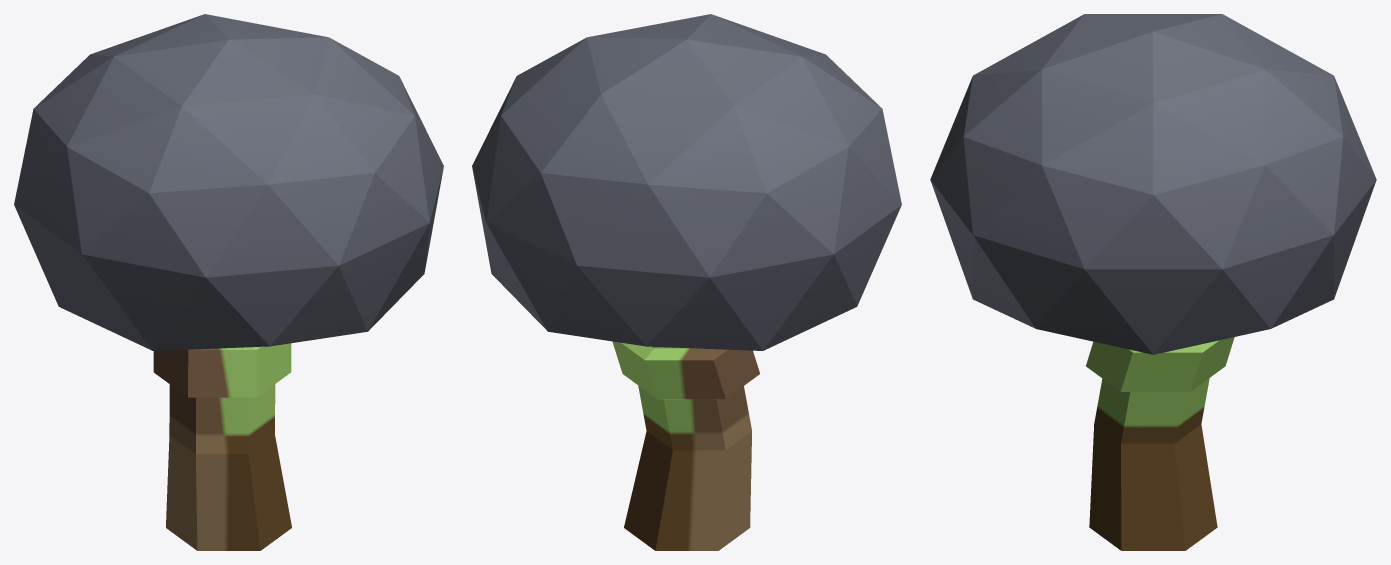
Rendered from Mushroom_02.fbx.
3 views of the same model, side by side, from view 1: azimuth 30°, elevation 25°; view 2: azimuth 150°, elevation 25°; view 3: azimuth 270°, elevation 25° (orthographic).
Visible parts, largest first — view 1: Mushroom_02; view 2: Mushroom_02; view 3: Mushroom_02.
Boxes of the visible parts, x1=… form: Mushroom_02: x1=14, y1=14, x2=443, y2=550; Mushroom_02: x1=472, y1=14, x2=901, y2=550; Mushroom_02: x1=930, y1=14, x2=1376, y2=550.
Size of the model in its own units: 0.3816 by 0.4917 by 0.4012.
